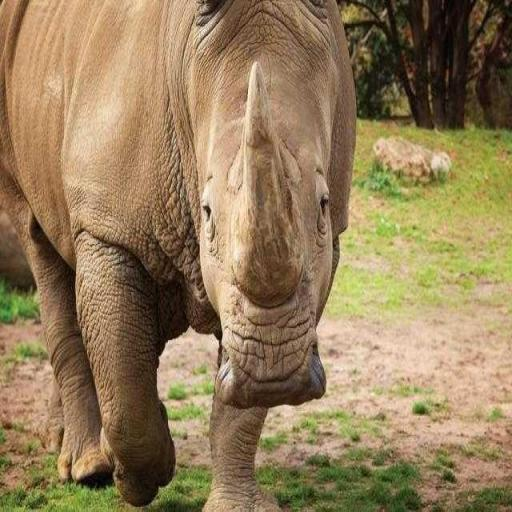Rhino: (0, 0, 357, 510)
